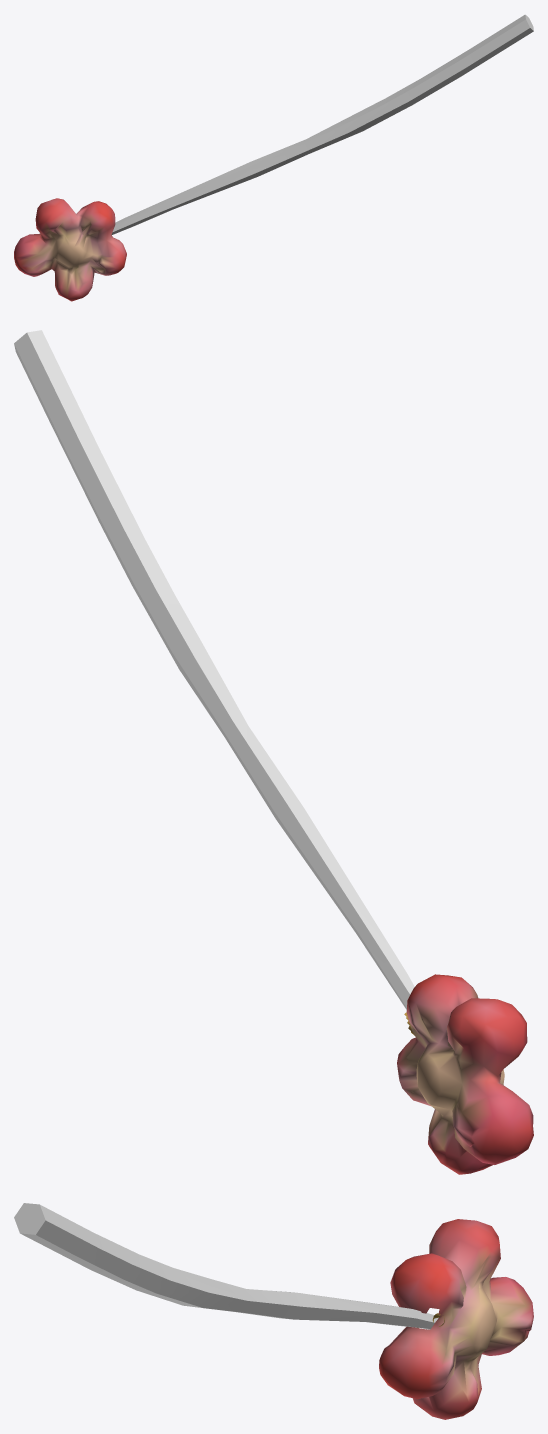
The picture shows the model from 3 angles, top to bottom: view 1: azimuth 30°, elevation 25°; view 2: azimuth 150°, elevation 25°; view 3: azimuth 270°, elevation 25°; orthographic projection. The views are drawn at different scales.
Visible parts, largest first — view 1: LOD 4_4441588532611241159_923a94d9283586042bf341a57634d57c; view 2: LOD 4_4441588532611241159_923a94d9283586042bf341a57634d57c; view 3: LOD 4_4441588532611241159_923a94d9283586042bf341a57634d57c.
Part boxes in pixels (bbox=[...]): LOD 4_4441588532611241159_923a94d9283586042bf341a57634d57c: bbox=[14, 14, 533, 301]; LOD 4_4441588532611241159_923a94d9283586042bf341a57634d57c: bbox=[14, 330, 533, 1174]; LOD 4_4441588532611241159_923a94d9283586042bf341a57634d57c: bbox=[14, 1203, 533, 1419].
Size of the model in its own units: 1.5 by 1.01 by 0.9113.
